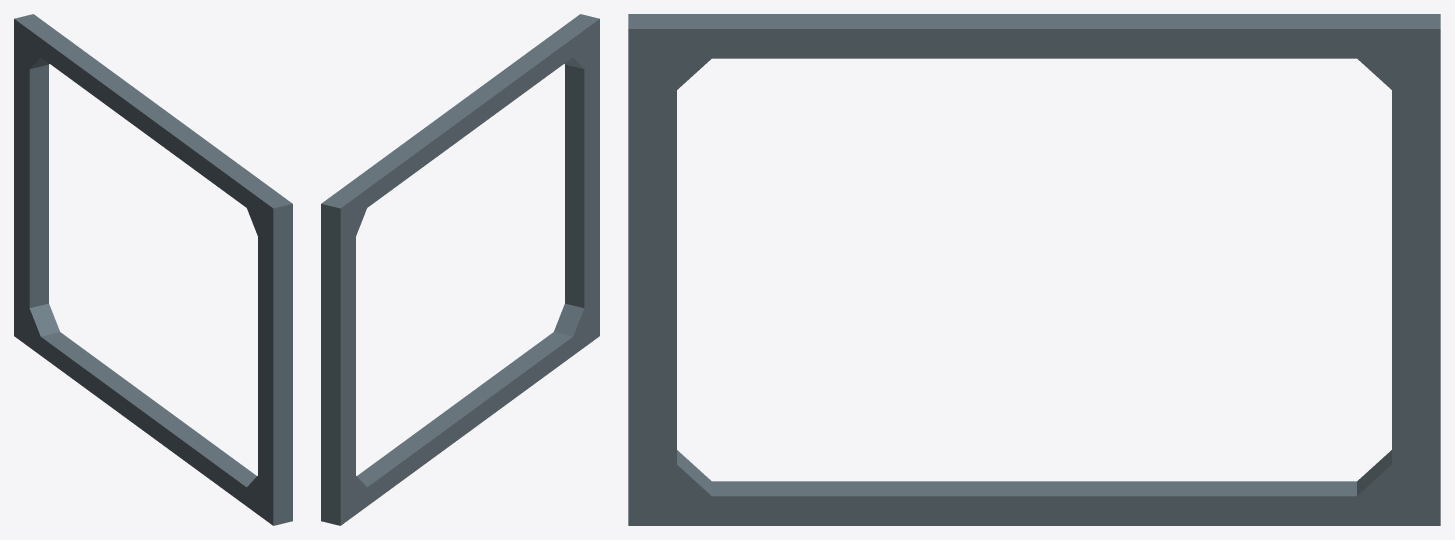
The model's file is plaka 3 frame.fbx.
3 views of the same model, side by side, from view 1: azimuth 30°, elevation 25°; view 2: azimuth 150°, elevation 25°; view 3: azimuth 270°, elevation 25° (orthographic). The views are drawn at different scales.
Visible parts, largest first — view 1: pCube411; view 2: pCube411; view 3: pCube411.
Part boxes in pixels (x1=…): pCube411: x1=14, y1=14, x2=292, y2=525; pCube411: x1=321, y1=14, x2=599, y2=525; pCube411: x1=628, y1=14, x2=1440, y2=525.
Size of the model in its own units: 8.92 by 139 by 206.
